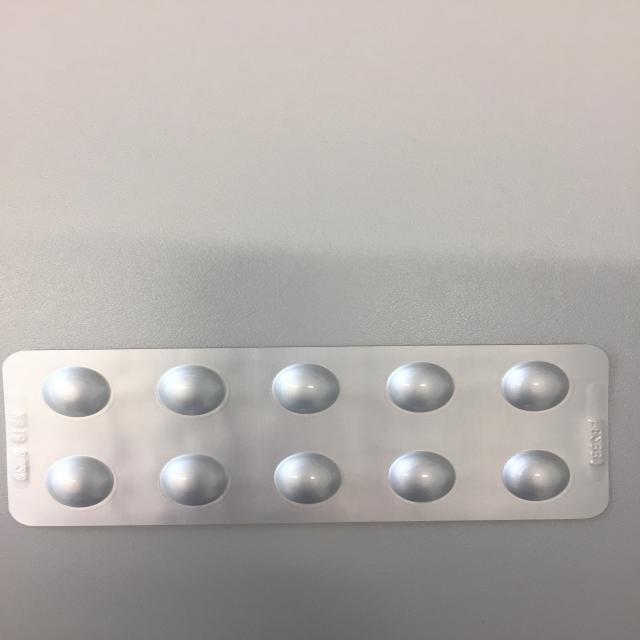Pill: (496, 447, 580, 507), (266, 358, 345, 420), (266, 447, 346, 508), (382, 447, 465, 505), (34, 363, 115, 422), (381, 357, 458, 418), (38, 452, 118, 510), (152, 362, 230, 420), (497, 357, 575, 415), (154, 452, 232, 509)
